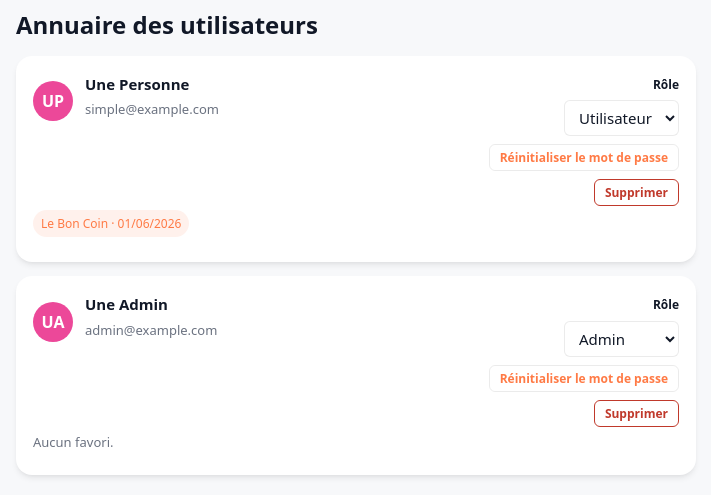
Test case: UtilisateursPage › supprime l'utilisateur après confirmation et rafraîchit la liste
This screenshot has width=711, height=495.
Expected: the heading "Une Personne" is shown, [85, 74, 189, 94]
What coordinates should you click on to do the following:
click the 1st button "Supprimer"
I would click on:
 (636, 193)
Its box is [594, 179, 679, 206].
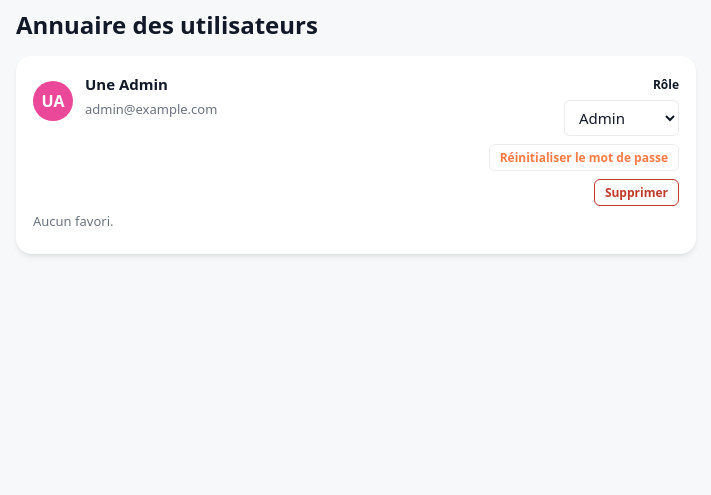
Result: the heading "Une Personne" is gone
